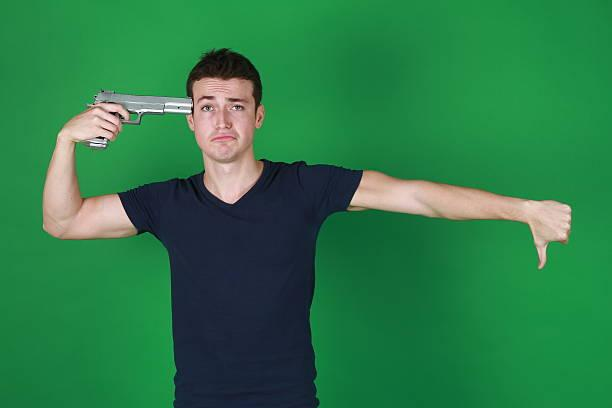weapon: (79, 82, 195, 154)
